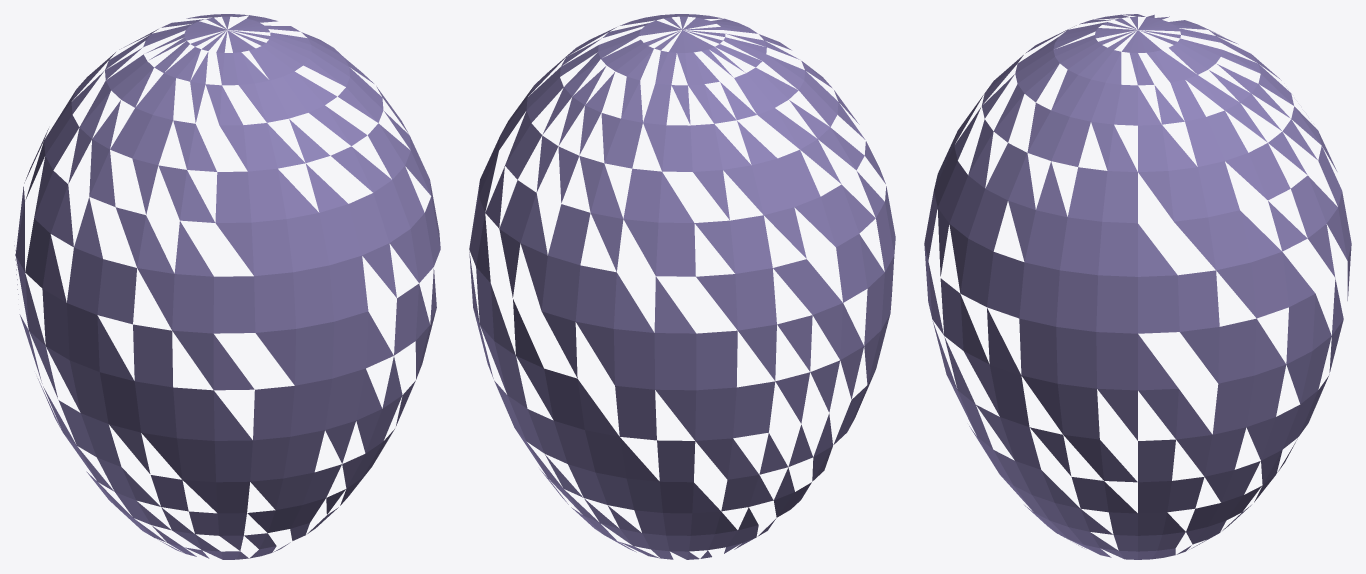
The model's file is food_egg_chicken_b02.glb.
The picture shows the model from 3 angles, left to right: view 1: azimuth 30°, elevation 25°; view 2: azimuth 150°, elevation 25°; view 3: azimuth 270°, elevation 25°; orthographic projection.
Visible parts, largest first — view 1: geometry_0; view 2: geometry_0; view 3: geometry_0.
Part boxes in pixels (x1,y1,x2,y2): geometry_0: (14, 14, 440, 559); geometry_0: (469, 14, 895, 559); geometry_0: (924, 14, 1351, 559).
Size of the model in its own units: 0.3574 by 0.48 by 0.3574.
